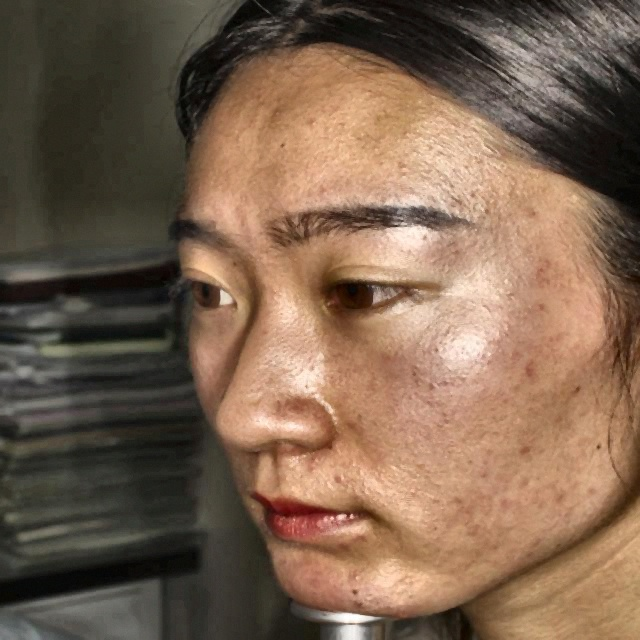comedone: (337, 567, 370, 594)
